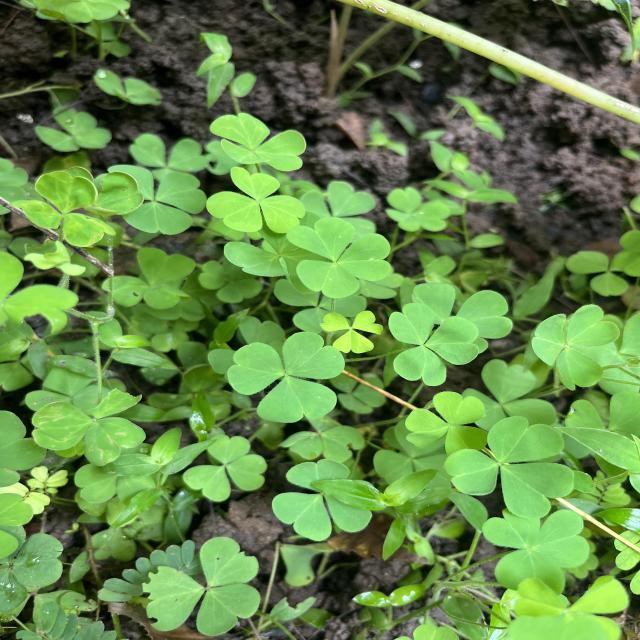Oxalis corniculata: (442, 414, 576, 520), (142, 534, 262, 638), (227, 329, 346, 424), (481, 508, 592, 596), (30, 387, 147, 468), (285, 217, 393, 300), (271, 458, 374, 542), (528, 304, 622, 392), (388, 302, 480, 387), (21, 170, 118, 249), (206, 166, 306, 235), (209, 112, 307, 173), (102, 247, 196, 310), (182, 434, 268, 502), (34, 105, 114, 154), (384, 186, 452, 233), (318, 310, 384, 354)
